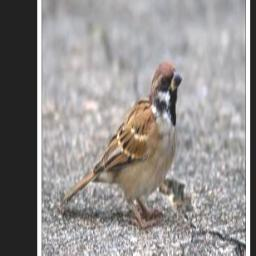Sparrow: (59, 56, 186, 232)
